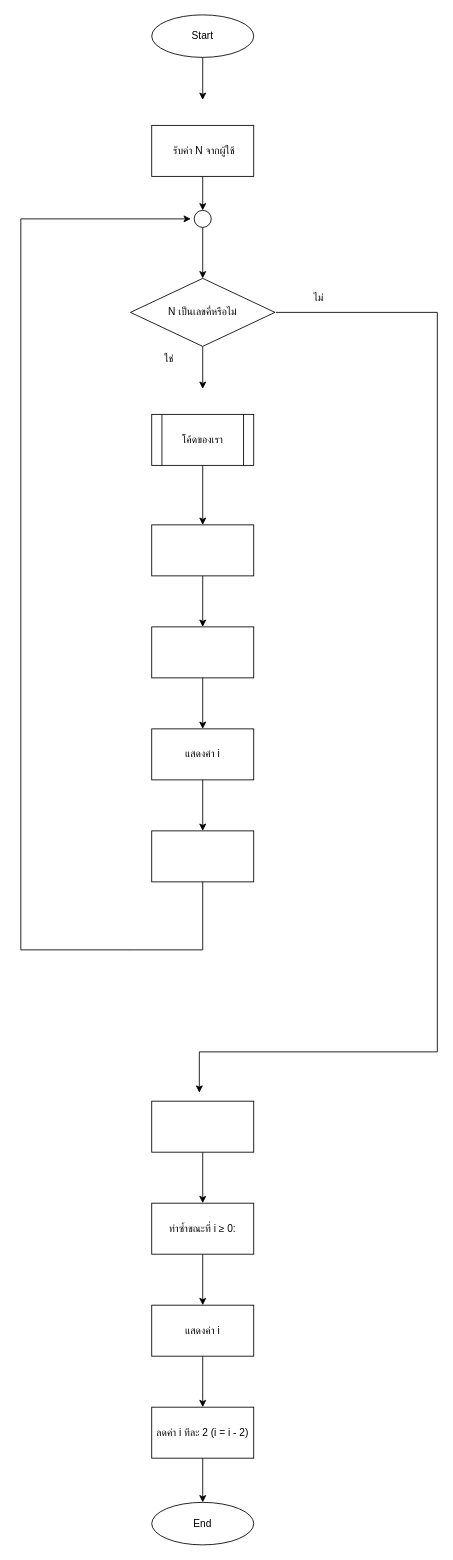
Image size: 453x1560. Some labels were removed from this diagram. Each missing label, with the centre of its shape:
กำหนดค่าเริ่มต้น i = 1: (202,550)
กำหนดค่าเริ่มต้น i = N: (202,1126)
ทำซ้ำขณะที่ i ≤ N:: (202,652)
เพิ่มค่า i ทีละ 2 (i = i + 2): (202,856)
